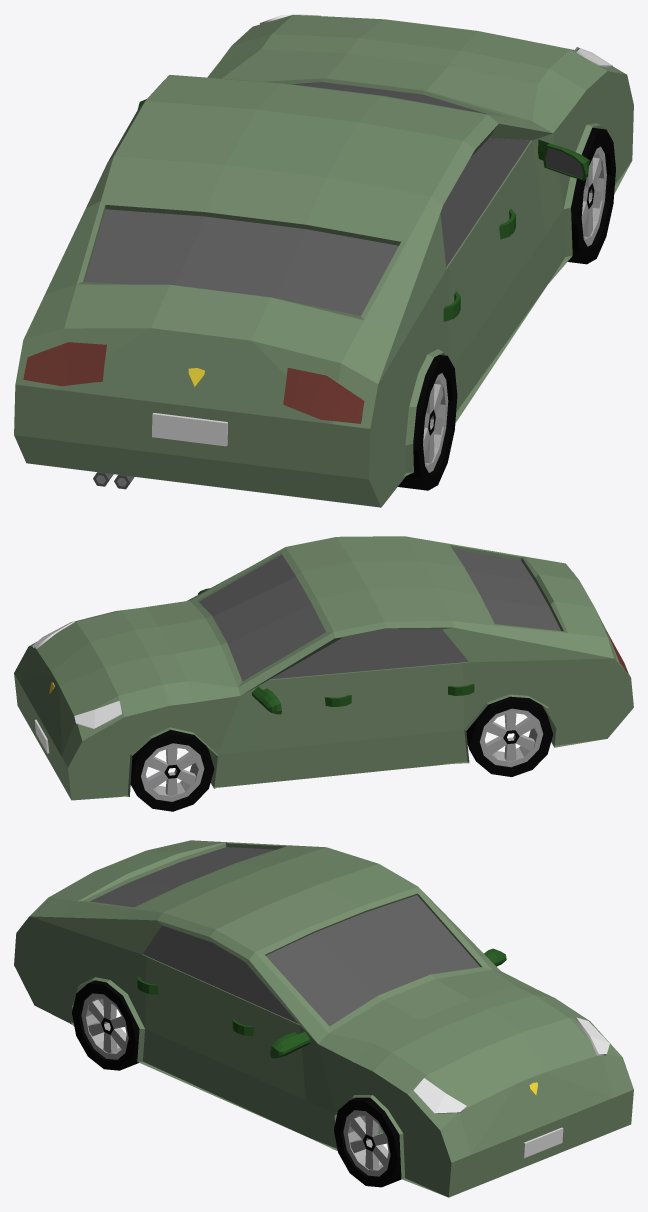
The model's file is Car A Green.fbx.
3 views of the same model, one above another, from view 1: azimuth 30°, elevation 25°; view 2: azimuth 150°, elevation 25°; view 3: azimuth 270°, elevation 25° (orthographic). The views are drawn at different scales.
Visible parts, largest first — view 1: Car A Green; view 2: Car A Green; view 3: Car A Green.
Boxes of the visible parts, left/top/right/bottom form: Car A Green: left=14, top=14, right=633, bottom=507; Car A Green: left=14, top=536, right=633, bottom=811; Car A Green: left=14, top=840, right=633, bottom=1197.
Bounding box in the file's own units: 526 × 515 × 164.
